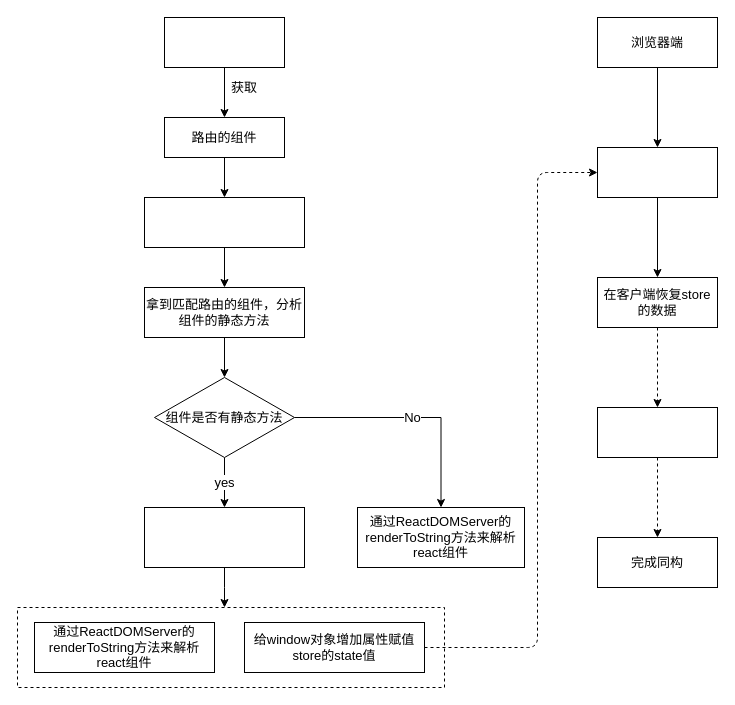
This 735x705 diagram has some shape labels left out. The centre of each missing label's shape, as x and y in pixels:
"Node端" belongs at pixel 224 42.
"node通过调用后端接口获取数据放到redux的store里" belongs at pixel 224 537.
"使用React的hydrate函数恢复客户端组件" belongs at pixel 657 432.
"创建store的时候需要初始化" belongs at pixel 657 172.
"通过react-router中matchPath去匹配路由" belongs at pixel 224 222.
